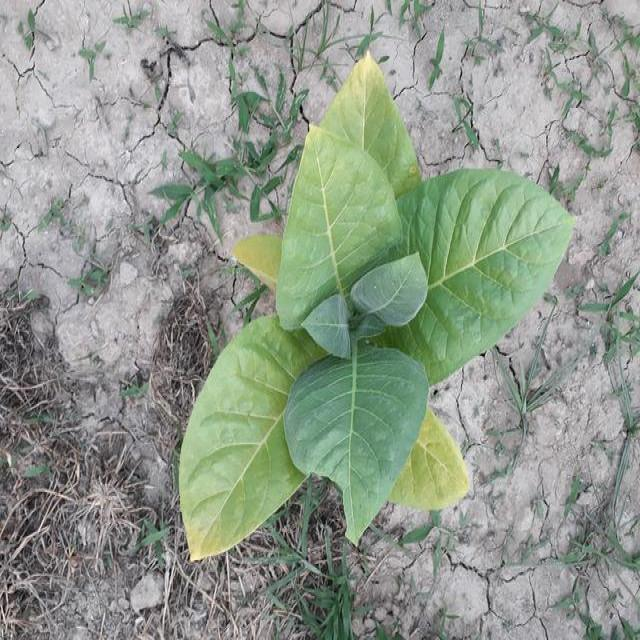crop: (178, 59, 574, 574)
